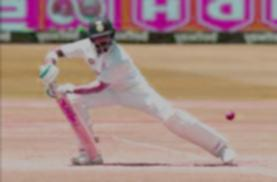batsman: (23, 6, 246, 182)
